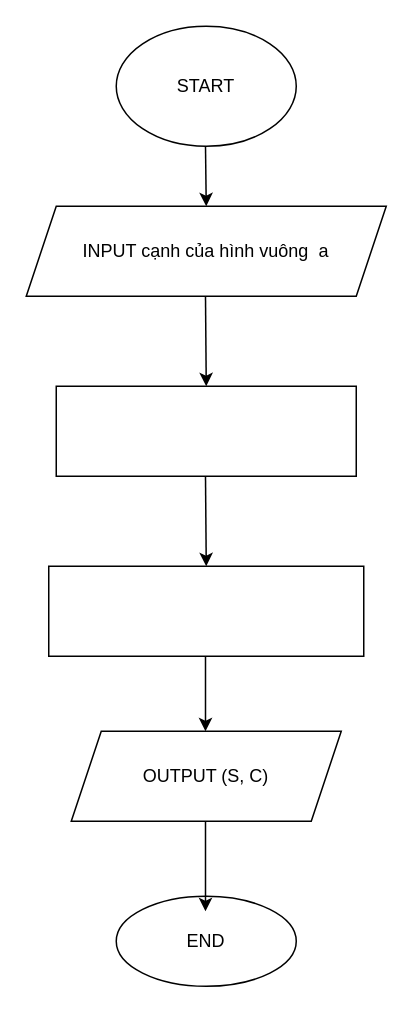
Some shapes in this 413 by 1013 pixel diagram are drawn without their labels. The shapes that lost their labels are listed below. From the top down, each one's box as (x1, y1, x2, y2) in pixels, then its label:
(55, 385, 356, 476): C = a *4
(47, 565, 364, 656): S = a *a
